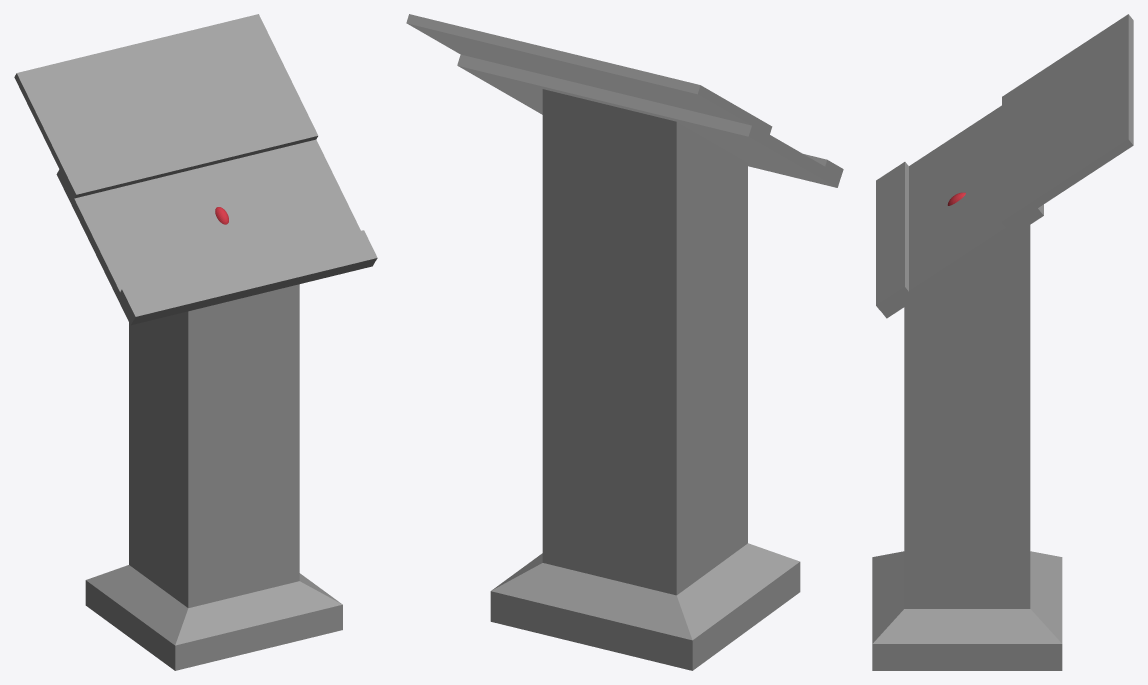
Rendered from tempat amulet terbuka.fbx.
The picture shows the model from 3 angles, left to right: view 1: azimuth 30°, elevation 25°; view 2: azimuth 150°, elevation 25°; view 3: azimuth 270°, elevation 25°; orthographic projection. The views are drawn at different scales.
Parts seen in each view (by area): view 1: Cube, Cube.005, Cube.001, Cube.004; view 2: Cube, Cube.005, Cube.001; view 3: Cube, Cube.005, Cube.001, Cube.004.
Part boxes in pixels (bbox=[...]): Cube: bbox=[85, 284, 342, 670]; Cube.005: bbox=[14, 14, 318, 198]; Cube.001: bbox=[56, 139, 375, 325]; Cube.004: bbox=[120, 230, 377, 319]; Cube: bbox=[490, 89, 800, 670]; Cube.005: bbox=[406, 14, 772, 134]; Cube.001: bbox=[457, 54, 841, 187]; Cube: bbox=[872, 225, 1062, 670]; Cube.005: bbox=[1002, 14, 1133, 227]; Cube.001: bbox=[880, 105, 1043, 318]; Cube.004: bbox=[876, 162, 908, 310].
Bounding box in the file's own units: 273 × 559 × 240.
